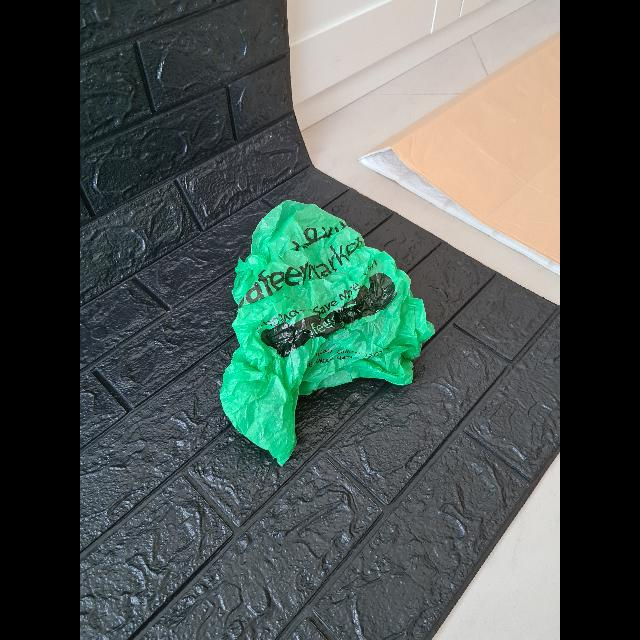plastic_bag: (222, 198, 438, 464)
